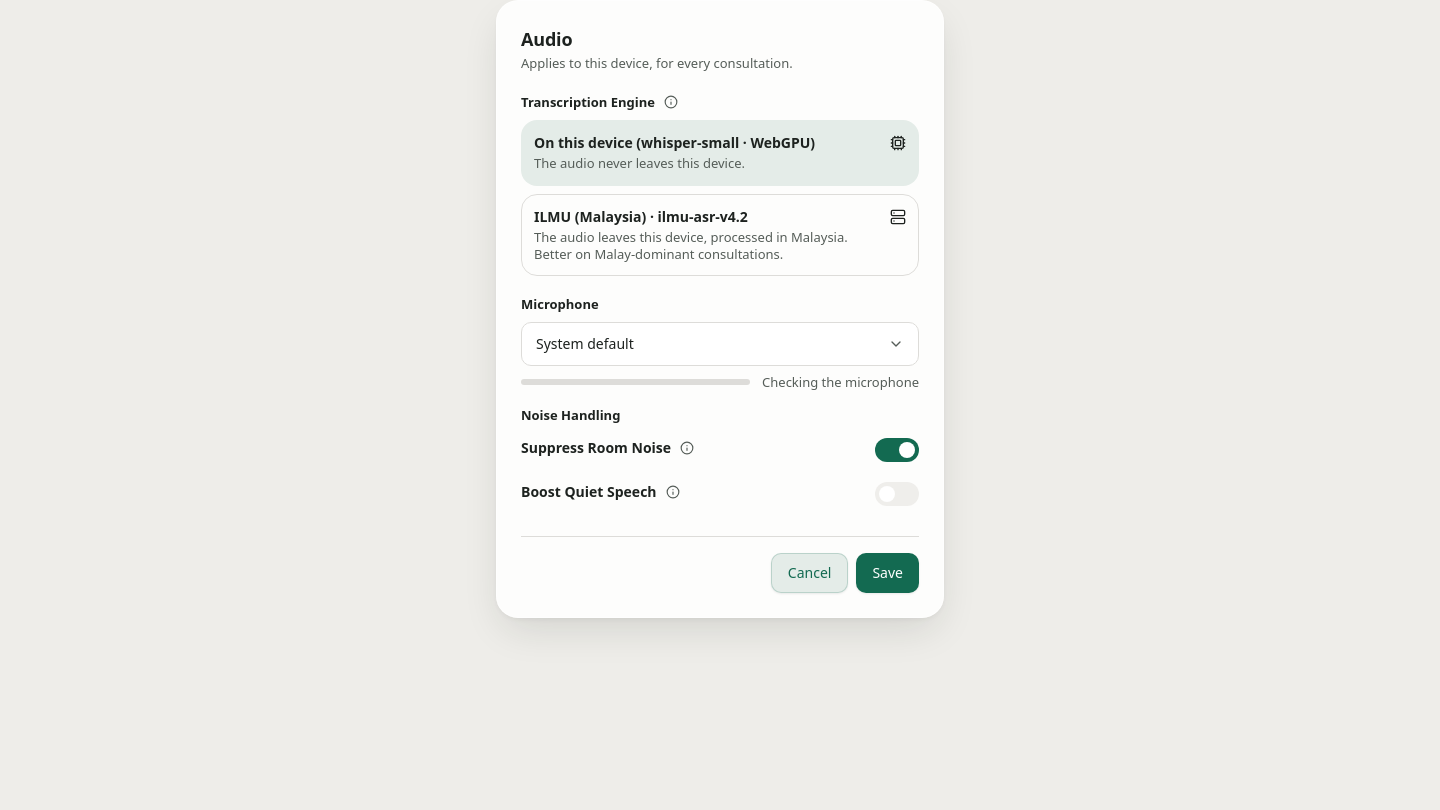
the audio processing toggles › states what suppressing room noise does, and when to turn it off
Click the button named "about suppress room noise" at [687, 448], box [677,438,697,458]
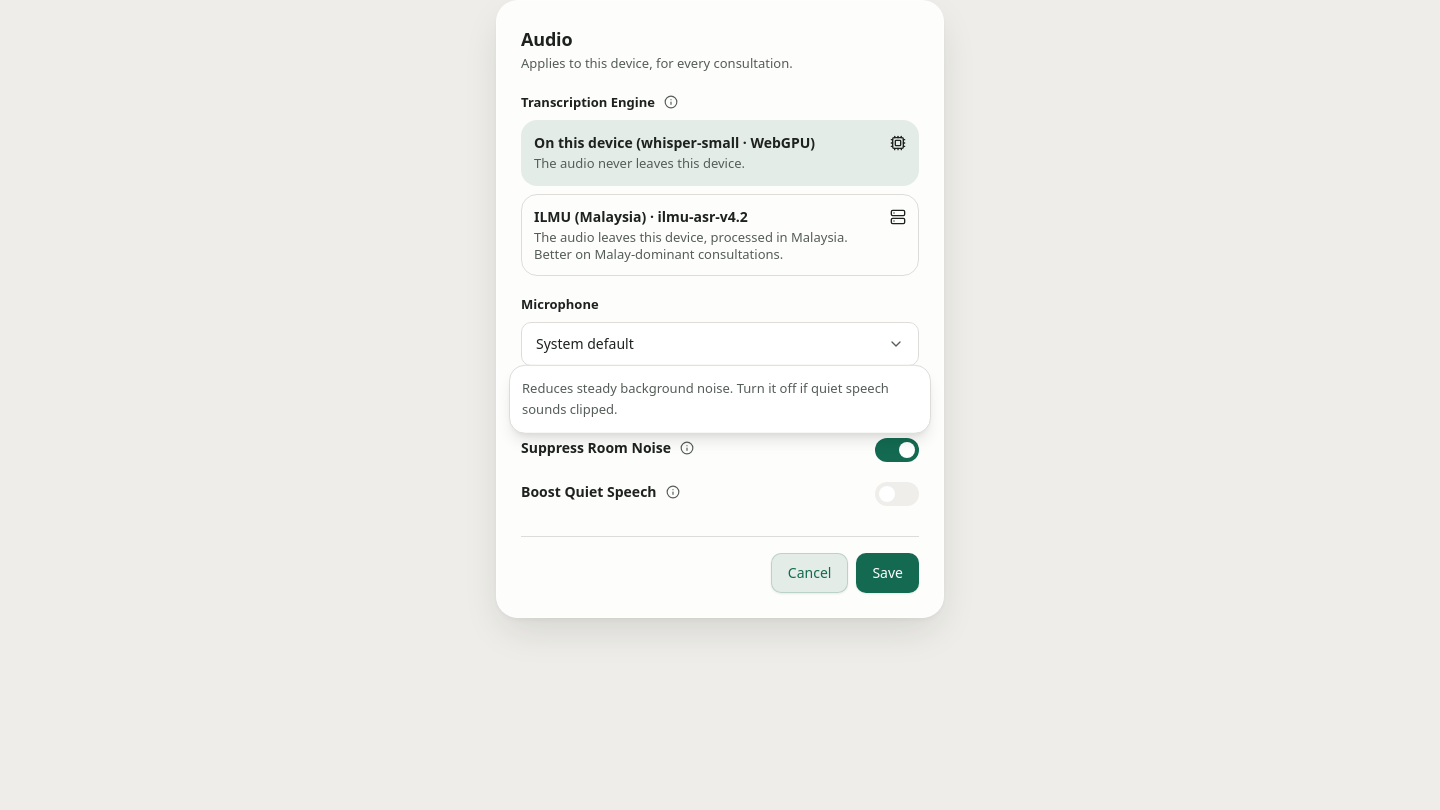
Result: the tooltip reads "Reduces steady background noise. Turn it off if quiet speech sounds clipped." at [522,379,889,418]
